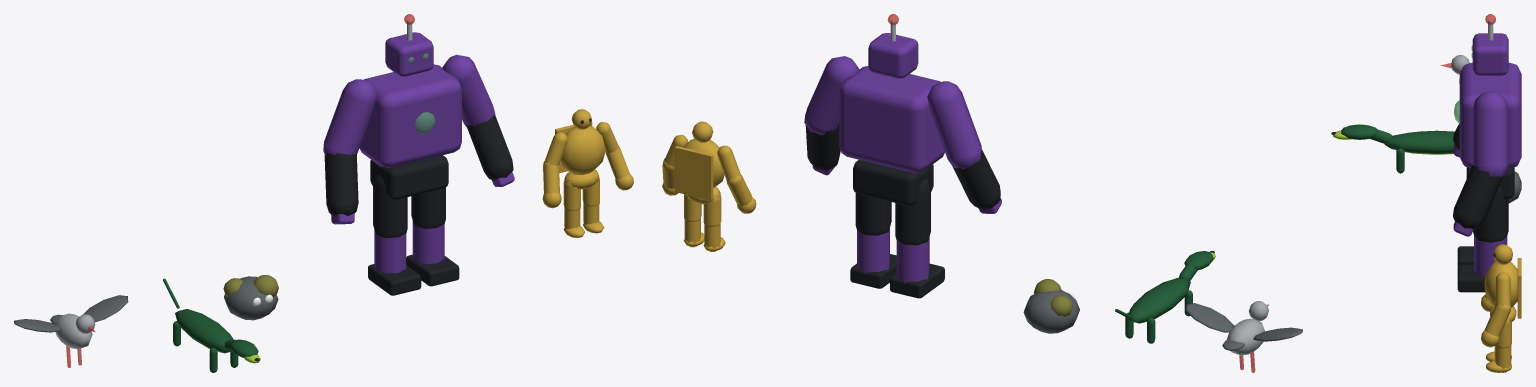
Rendered from apex.glb.
The picture shows the model from 3 angles, left to right: view 1: azimuth 30°, elevation 25°; view 2: azimuth 150°, elevation 25°; view 3: azimuth 270°, elevation 25°; orthographic projection. The views are drawn at different scales.
Visible parts, largest first — view 1: torso (×2), body (×3), arm_upper_R (×2), arm_lower_R (×2), arm_lower_L (×2), pelvis, leg_lower_R, leg_lower_L, arm_upper_L, head, leg_upper_R, leg_upper_L (+2 smaller); view 2: torso (×2), body (×3), arm_upper_R (×2), pelvis, arm_lower_R (×2), arm_upper_L, leg_lower_R, head, leg_lower_L, leg_upper_R, leg_upper_L, arm_lower_L (+2 smaller); view 3: torso (×2), arm_upper_L (×2), arm_lower_L (×2), head (×3), leg_lower_L (×2), body (×2), leg_upper_L (×2), joint_neck, pelvis, leg_lower_R, leg_0L, arm_lower_R.
Boxes of the visible parts, bbox=[...] form: torso (×2): bbox=[359, 64, 605, 174]; body (×3): bbox=[50, 275, 278, 353]; arm_upper_R (×2): bbox=[323, 79, 567, 165]; arm_lower_R (×2): bbox=[324, 153, 561, 224]; arm_lower_L (×2): bbox=[466, 114, 633, 190]; pelvis: bbox=[370, 155, 448, 199]; leg_lower_R: bbox=[368, 230, 421, 295]; leg_lower_L: bbox=[406, 221, 459, 286]; arm_upper_L: bbox=[442, 54, 495, 126]; head: bbox=[385, 14, 433, 76]; leg_upper_R: bbox=[373, 174, 407, 237]; leg_upper_L: bbox=[411, 187, 445, 228]; torso (×2): bbox=[675, 66, 944, 200]; body (×3): bbox=[1023, 277, 1264, 355]; arm_upper_R (×2): bbox=[717, 81, 981, 180]; pelvis: bbox=[853, 160, 933, 205]; arm_lower_R (×2): bbox=[726, 150, 1001, 213]; arm_upper_L: bbox=[804, 56, 859, 135]; leg_lower_R: bbox=[890, 237, 944, 298]; head: bbox=[868, 14, 918, 78]; leg_lower_L: bbox=[850, 228, 896, 288]; leg_upper_R: bbox=[895, 179, 930, 245]; leg_upper_L: bbox=[855, 193, 891, 235]; arm_lower_L: bbox=[805, 123, 840, 175]; torso (×2): bbox=[1454, 62, 1521, 318]; arm_upper_L (×2): bbox=[1472, 91, 1510, 306]; arm_lower_L (×2): bbox=[1453, 165, 1511, 347]; head (×3): bbox=[1440, 14, 1512, 264]; leg_lower_L (×2): bbox=[1457, 236, 1511, 372]; body (×2): bbox=[1384, 130, 1521, 203]; leg_upper_L (×2): bbox=[1473, 186, 1511, 348]; joint_neck: bbox=[1331, 124, 1392, 143]; pelvis: bbox=[1466, 167, 1514, 199]; leg_lower_R: bbox=[1457, 246, 1473, 266]; leg_0L: bbox=[1396, 148, 1404, 173]; arm_lower_R: bbox=[1453, 123, 1459, 157].
Bounding box in the file's own units: 104 × 42.6 × 27.63.
